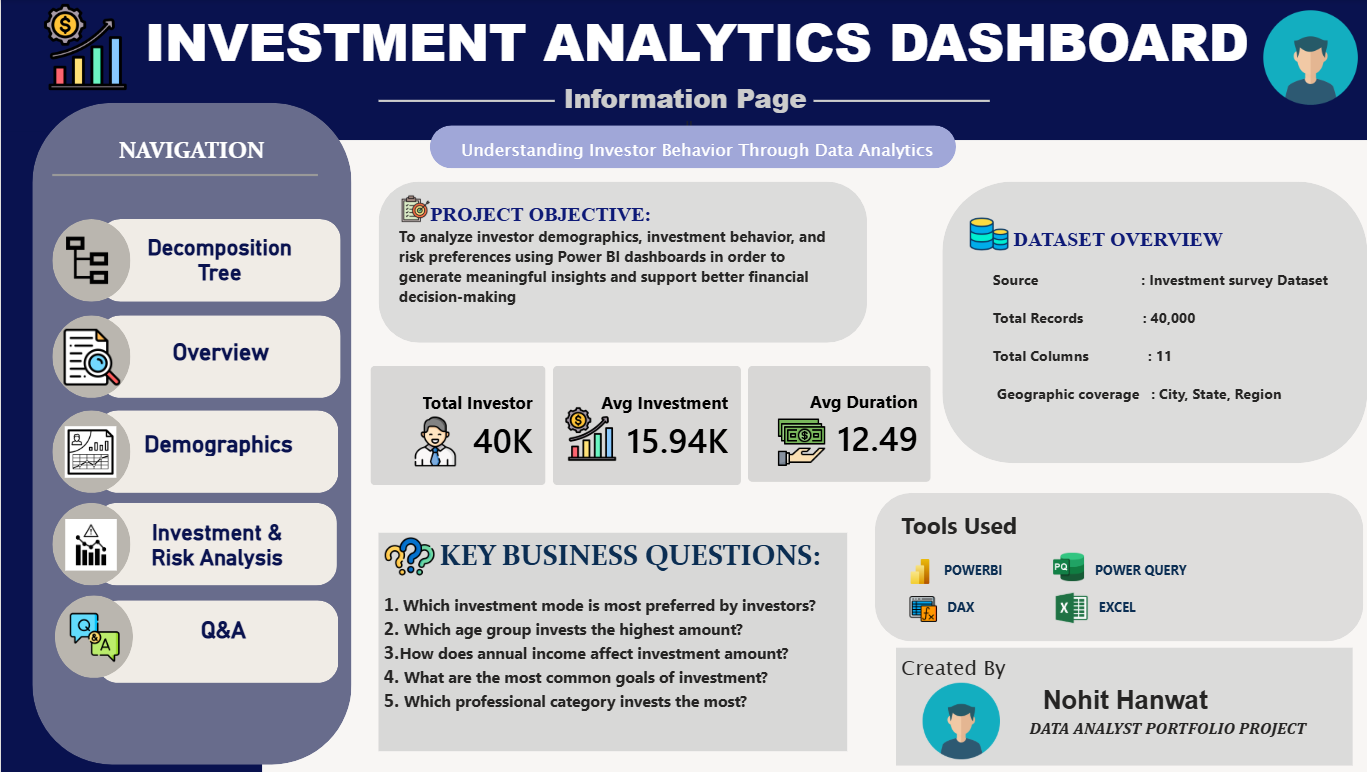

This screenshot's page, from the dashboard's own definition file:
{"tool":"powerbi","page":{"name":"Introduction ","canvas":[1280,720],"ordinal":0},"visuals":[{"type":"textbox","box":[0,0,1280,131.4],"z":0},{"type":"shape","box":[28.6,96.7,297.1,615.7],"z":0,"group":"g2"},{"type":"shape","box":[398.6,117.1,489.6,40.2],"z":0,"group":"g1"},{"type":"shape","box":[351.4,20,164.3,150],"z":1000},{"type":"textbox","box":[401.9,122.6,491,40.2],"z":1000,"group":"g1"},{"type":"textbox","box":[64.6,123.1,224.3,44.3],"z":1000,"group":"g2"},{"type":"shape","box":[755.7,20,164.3,150],"z":2000},{"type":"shape","box":[47.5,143.1,247.1,41.4],"z":2000,"group":"g2"},{"type":"group","id":"g1","title":"Group 1","box":[398.6,117.1,494.3,45.7],"z":3000},{"type":"shape","box":[0,122.9,242.9,597.1],"z":4000},{"type":"shape","box":[60.3,466.4,224.3,77.1],"z":5000},{"type":"group","id":"g2","title":"Group 2","box":[28.6,96.7,297.1,615.7],"z":6000},{"type":"shape","box":[88.6,468.6,224.3,77.1],"z":7000},{"type":"shape","box":[88.6,559.6,224.3,77.1],"z":7000,"group":"g2"},{"type":"shape","box":[90,382.9,224.3,77.1],"z":8000},{"type":"shape","box":[91.4,294.3,224.3,77.1],"z":9000},{"type":"shape","box":[91.4,204.3,224.3,77.1],"z":10000},{"type":"actionButton","title":"Decomposition Tree","box":[122.1,218.6,162.8,58.1],"z":11000},{"type":"shape","box":[47.1,204.3,72.9,77.1],"z":12000},{"type":"image","box":[47.1,218.6,64.3,48.6],"z":13000},{"type":"actionButton","title":"Overview","box":[122.9,315.7,162.9,32.9],"z":14000},{"type":"actionButton","title":"Demographics","box":[121.4,401.4,162.9,31.4],"z":15000},{"type":"actionButton","title":"Investment & Risk Analysis","box":[120,484.3,162.9,58.6],"z":16000},{"type":"actionButton","title":"Q&A","box":[125.7,574.3,162.9,35.7],"z":17000},{"type":"shape","box":[47.1,294.3,72.9,77.1],"z":18000},{"type":"shape","box":[50,554.3,72.9,77.1],"z":19000},{"type":"shape","box":[47.1,468.6,72.9,77.1],"z":20000},{"type":"shape","box":[47.1,382.9,72.9,77.1],"z":21000},{"type":"image","box":[58.6,288.6,52.9,90],"z":22000},{"type":"image","box":[59.3,394.2,47.7,54.7],"z":23000},{"type":"image","box":[58.1,483.7,51.2,47.7],"z":24000},{"type":"image","box":[64,567.4,46.5,52.3],"z":25000},{"type":"image","box":[1155.6,10.5,124.4,88.4],"z":26000},{"type":"image","box":[20.9,3.5,115.1,82.6],"z":27000},{"type":"shape","box":[351.2,169.8,454.7,150],"z":28000},{"type":"textbox","box":[365.1,184.9,422.1,118.6],"z":29000},{"type":"shape","box":[875.3,170.3,395.4,262],"z":30000},{"type":"textbox","box":[888.4,204.8,356.1,227.5],"z":31000},{"type":"shape","box":[812.8,459.3,454.7,138.4],"z":32000},{"type":"textbox","box":[832.6,469.8,417.4,127.9],"z":33000},{"type":"image","box":[836,520.9,37.2,23.3],"z":34000},{"type":"image","box":[839.5,554.7,36,25.6],"z":35000},{"type":"textbox","box":[351.2,496.5,436,203.5],"z":36000},{"type":"image","box":[965.1,515.1,55.8,26.7],"z":37000},{"type":"image","box":[965.1,550,61.6,32.6],"z":38000},{"type":"textbox","box":[832.6,603.5,424.4,109.3],"z":39000},{"type":"image","box":[834.8,636,116.7,71.5],"z":40000},{"type":"cardVisual","fields":{"Data":["investment_survey.Total Investor"]},"box":[326.3,323.9,197.7,145.3],"z":41000},{"type":"cardVisual","fields":{"Data":["investment_survey.Avg Investment"]},"box":[496.6,323.9,209.6,145.3],"z":42000},{"type":"cardVisual","fields":{"Data":["investment_survey.Avg Duration"]},"box":[677.6,323.9,204.8,142.9],"z":43000},{"type":"image","box":[373.9,388.2,59.5,46.4],"z":44000},{"type":"image","box":[507.3,378.7,83.4,51.2],"z":45000},{"type":"image","box":[677.6,389.4,133.4,45.3],"z":46000},{"type":"image","box":[346.6,178.6,78.6,32.2],"z":47000},{"type":"image","box":[901.5,194.1,35.7,48.8],"z":48000},{"type":"image","box":[346.6,495.4,67.9,46.4],"z":49000}]}

Visuals, with their boxes in screenshot pixels (x1, y1, x2, y2), scaled from the page's 1280x720 canvas onto the 1367x772 screenshot:
textbox: bbox=[0, 0, 1366, 141]
shape: bbox=[31, 104, 348, 764]
shape: bbox=[426, 126, 949, 169]
shape: bbox=[375, 21, 551, 182]
textbox: bbox=[429, 131, 954, 175]
textbox: bbox=[69, 132, 309, 179]
shape: bbox=[807, 21, 983, 182]
shape: bbox=[51, 153, 315, 198]
"Group 1" group: bbox=[426, 126, 954, 175]
shape: bbox=[0, 132, 259, 771]
shape: bbox=[64, 500, 304, 583]
"Group 2" group: bbox=[31, 104, 348, 764]
shape: bbox=[95, 502, 334, 585]
shape: bbox=[95, 600, 334, 683]
shape: bbox=[96, 411, 336, 493]
shape: bbox=[98, 316, 337, 398]
shape: bbox=[98, 219, 337, 302]
"Decomposition Tree" actionButton: bbox=[130, 234, 304, 297]
shape: bbox=[50, 219, 128, 302]
image: bbox=[50, 234, 119, 286]
"Overview" actionButton: bbox=[131, 339, 305, 374]
"Demographics" actionButton: bbox=[130, 430, 304, 464]
"Investment & Risk Analysis" actionButton: bbox=[128, 519, 302, 582]
"Q&A" actionButton: bbox=[134, 616, 308, 654]
shape: bbox=[50, 316, 128, 398]
shape: bbox=[53, 594, 131, 677]
shape: bbox=[50, 502, 128, 585]
shape: bbox=[50, 411, 128, 493]
image: bbox=[63, 309, 119, 406]
image: bbox=[63, 423, 114, 481]
image: bbox=[62, 519, 117, 570]
image: bbox=[68, 608, 118, 664]
image: bbox=[1234, 11, 1366, 106]
image: bbox=[22, 4, 145, 92]
shape: bbox=[375, 182, 861, 343]
textbox: bbox=[390, 198, 841, 325]
shape: bbox=[935, 183, 1357, 464]
textbox: bbox=[949, 220, 1329, 464]
shape: bbox=[868, 492, 1354, 641]
textbox: bbox=[889, 504, 1335, 641]
image: bbox=[893, 559, 933, 584]
image: bbox=[897, 595, 935, 622]
textbox: bbox=[375, 532, 841, 751]
image: bbox=[1031, 552, 1090, 581]
image: bbox=[1031, 590, 1096, 625]
textbox: bbox=[889, 647, 1342, 764]
image: bbox=[892, 682, 1016, 759]
cardVisual - investment_survey.Total Investor: bbox=[348, 347, 560, 503]
cardVisual - investment_survey.Avg Investment: bbox=[530, 347, 754, 503]
cardVisual - investment_survey.Avg Duration: bbox=[724, 347, 942, 501]
image: bbox=[399, 416, 463, 466]
image: bbox=[542, 406, 631, 461]
image: bbox=[724, 418, 866, 466]
image: bbox=[370, 191, 454, 226]
image: bbox=[963, 208, 1001, 260]
image: bbox=[370, 531, 443, 581]
